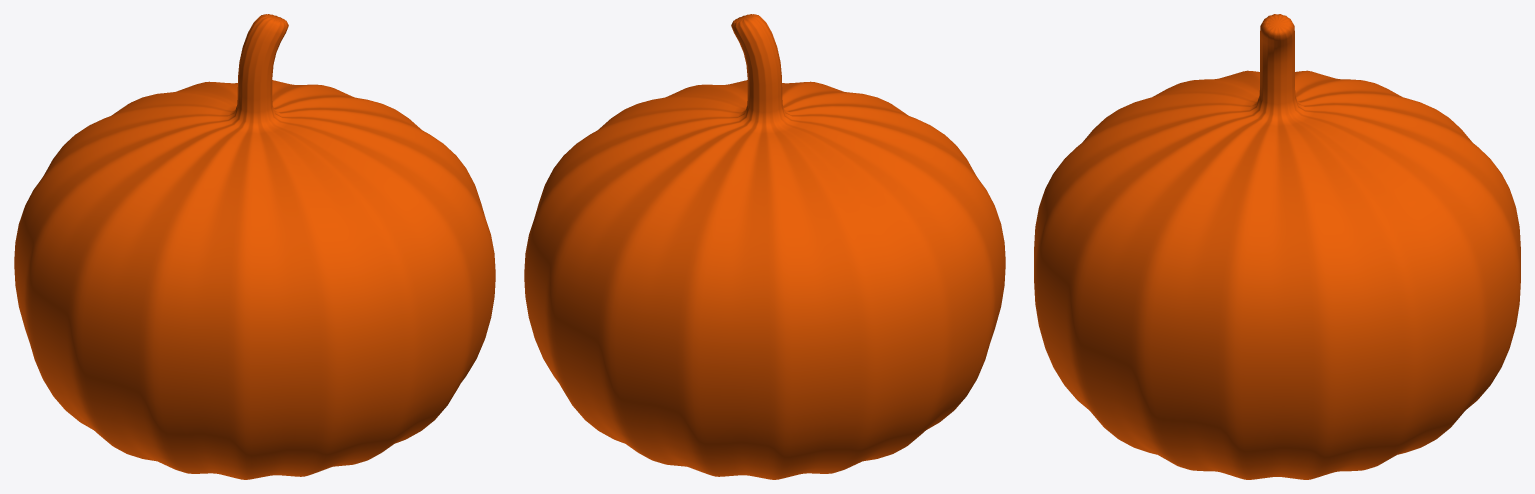
Rendered from Pumpkin.fbx.
3 renders of one model, left to right at view 1: azimuth 30°, elevation 25°; view 2: azimuth 150°, elevation 25°; view 3: azimuth 270°, elevation 25°, orthographic. The views are drawn at different scales.
Visible parts, largest first — view 1: Sphere; view 2: Sphere; view 3: Sphere.
Boxes of the visible parts, left/top/right/bottom form: Sphere: left=14, top=14, right=495, bottom=479; Sphere: left=524, top=14, right=1005, bottom=479; Sphere: left=1034, top=14, right=1520, bottom=479.
Bounding box in the file's own units: 570 × 553 × 570.
